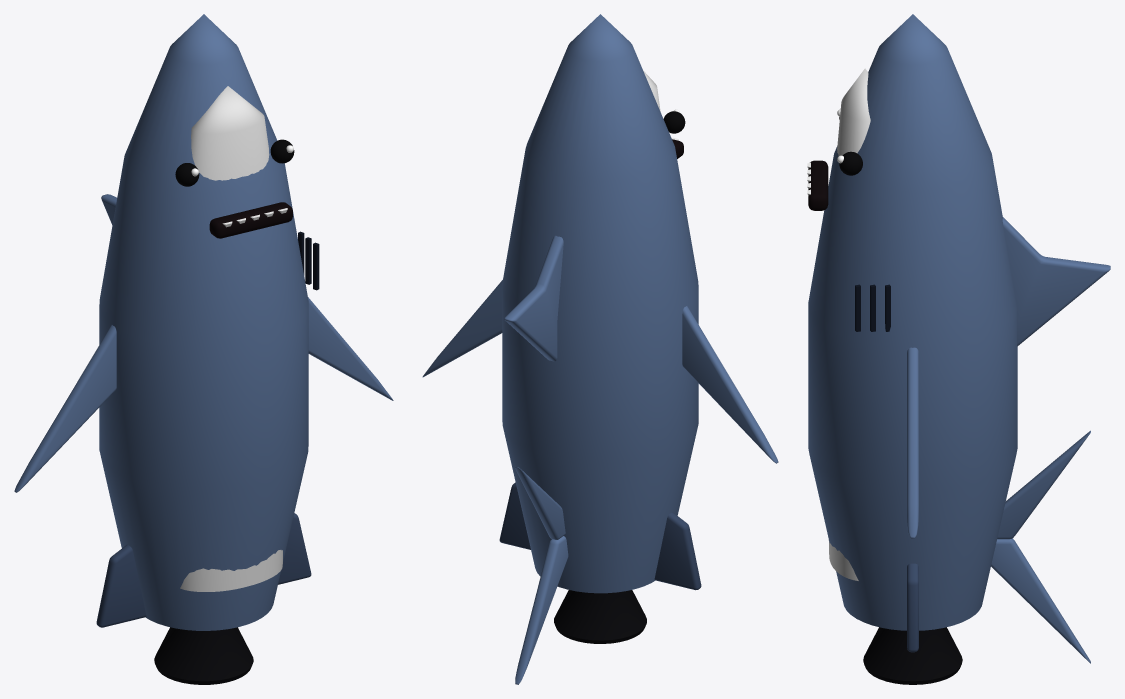
The model's file is Rocket_33_Shark.obj.
3 views of the same model, side by side, from view 1: azimuth 30°, elevation 25°; view 2: azimuth 150°, elevation 25°; view 3: azimuth 270°, elevation 25° (orthographic). The views are drawn at different scales.
Visible parts, largest first — view 1: R33_Body, R33_Belly, R33_Nozzle, R33_Pectoral_2, R33_Fin_2, R33_Pectoral, R33_Mouth, R33_Fin; view 2: R33_Body, R33_Nozzle, R33_Pectoral_2, R33_Dorsal, R33_Fin_2, R33_TailFluke, R33_Pectoral, R33_TailFluke_2, R33_Fin; view 3: R33_Body, R33_Dorsal, R33_Nozzle, R33_TailFluke, R33_Belly, R33_TailFluke_2, R33_Pectoral, R33_Fin, R33_Mouth.
Part boxes in pixels (box(x1,y1,x2,y2)): R33_Body: box(99, 14, 308, 630); R33_Belly: box(180, 86, 282, 591); R33_Nozzle: box(154, 627, 253, 684); R33_Pectoral_2: box(14, 325, 116, 492); R33_Fin_2: box(96, 544, 146, 627); R33_Pectoral: box(308, 297, 393, 400); R33_Mouth: box(209, 202, 292, 238); R33_Fin: box(278, 513, 311, 584); R33_Body: box(502, 14, 698, 593); R33_Nozzle: box(554, 590, 646, 643); R33_Pectoral_2: box(682, 306, 778, 463); R33_Dorsal: box(504, 235, 563, 361); R33_Fin_2: box(654, 512, 701, 590); R33_TailFluke: box(515, 536, 568, 684); R33_Pectoral: box(422, 280, 502, 377); R33_TailFluke_2: box(515, 466, 565, 539); R33_Fin: box(499, 482, 530, 549); R33_Body: box(808, 14, 1017, 630); R33_Dorsal: box(1002, 217, 1110, 346); R33_Nozzle: box(863, 627, 962, 684); R33_TailFluke: box(991, 538, 1090, 663); R33_Belly: box(828, 68, 870, 580); R33_TailFluke_2: box(997, 430, 1090, 539); R33_Pectoral: box(907, 347, 918, 538); R33_Fin: box(907, 563, 918, 652); R33_Mouth: box(808, 160, 828, 210).
Size of the model in its own units: 4.37 by 7.2 by 3.04.
